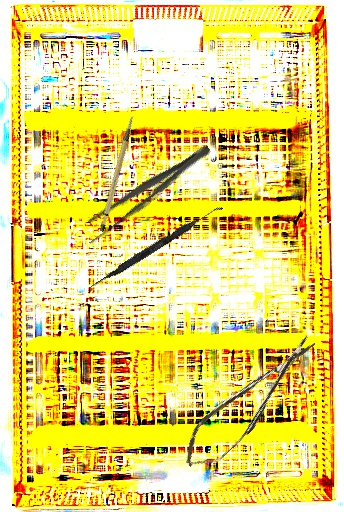Dressing Forceps: (78, 137, 216, 248)
Micro Scissor: (172, 327, 329, 479)
Scalpel Handle: (84, 115, 152, 233)
Spatula Surgical: (89, 201, 224, 292)
